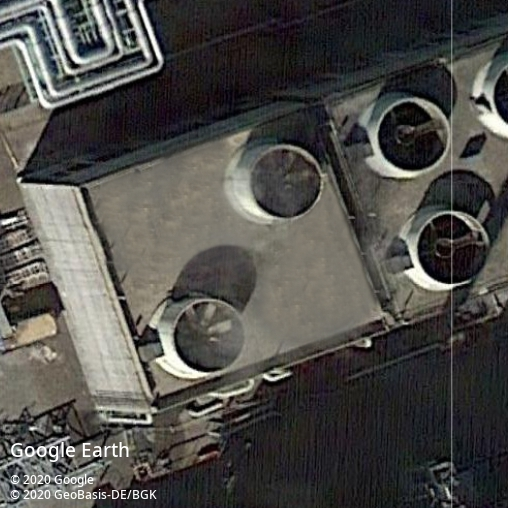Vent: (375, 96, 450, 174), (248, 144, 323, 221), (172, 298, 247, 374), (416, 211, 490, 287)
